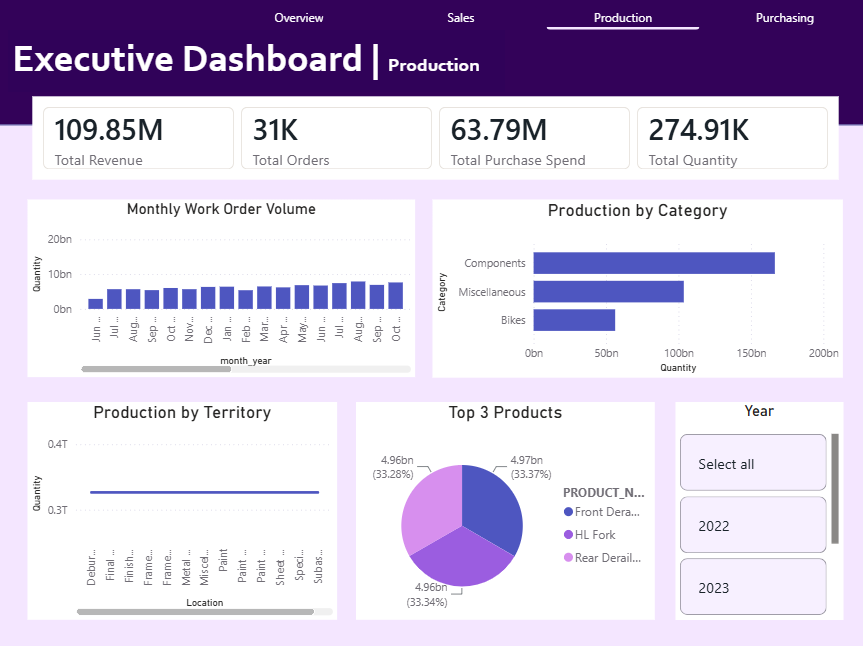

The dashboard page shown, as its layout file describes it:
{"tool":"powerbi","page":{"name":"Production","canvas":[960,720],"ordinal":2},"visuals":[{"type":"textbox","box":[9.5,33.4,551.9,68.4],"z":0},{"type":"shape","box":[0,137.5,1280,582.5],"z":1000},{"type":"cardVisual","fields":{"Data":["FACT_SALES.Total Revenue","FACT_SALES.Total Orders","FACT_PURCHASE.Total Purchase Spend","FACT_SALES.Total Quantity"]},"box":[31.7,101.7,906.7,103.3],"z":2000},{"type":"barChart","title":"Production by Category","fields":{"Category":["DIM_PRODUCT.CATEGORY_NAME"],"Y":["Sum(FACT_WORK_ORDER.Work Order Volume)"]},"box":[482,222,456,198],"z":3000},{"type":"lineChart","title":"Production by Territory","fields":{"Category":["DIM_LOCATION.LOCATION_NAME"],"Y":["Sum(FACT_WORK_ORDER.Work Order Volume)"]},"box":[32,446,344,242],"z":4000},{"type":"pieChart","title":"Top 3 Products","fields":{"Category":["DIM_PRODUCT.PRODUCT_NAME"],"Y":["Sum(FACT_WORK_ORDER.Work Order Volume)"]},"box":[396,446,332,242],"z":5000},{"type":"pageNavigator","box":[248.3,0,711.7,33.3],"z":7000},{"type":"lineClusteredColumnComboChart","title":"Monthly Work Order Volume","fields":{"Category":["FACT_WORK_ORDER.month_year"],"Y":["Sum(FACT_WORK_ORDER.Work Order Volume)"]},"box":[32.4,221.8,430.7,197.5],"z":8000},{"type":"advancedSlicerVisual","title":"Year","fields":{"Values":["FACT_WORK_ORDER.END_YEAR"]},"box":[752,446,186,242],"z":8001}]}

Visuals, with their boxes in screenshot pixels (x1, y1, x2, y2), scaled from the page's 960x720 canvas onto the 863x646 screenshot:
textbox: 9, 30, 505, 91
shape: 0, 123, 862, 645
cardVisual - FACT_SALES.Total Revenue x FACT_SALES.Total Orders: 28, 91, 844, 184
"Production by Category" barChart: 433, 199, 843, 377
"Production by Territory" lineChart: 29, 400, 338, 617
"Top 3 Products" pieChart: 356, 400, 654, 617
pageNavigator: 223, 0, 862, 30
"Monthly Work Order Volume" lineClusteredColumnComboChart: 29, 199, 416, 376
"Year" advancedSlicerVisual: 676, 400, 843, 617
